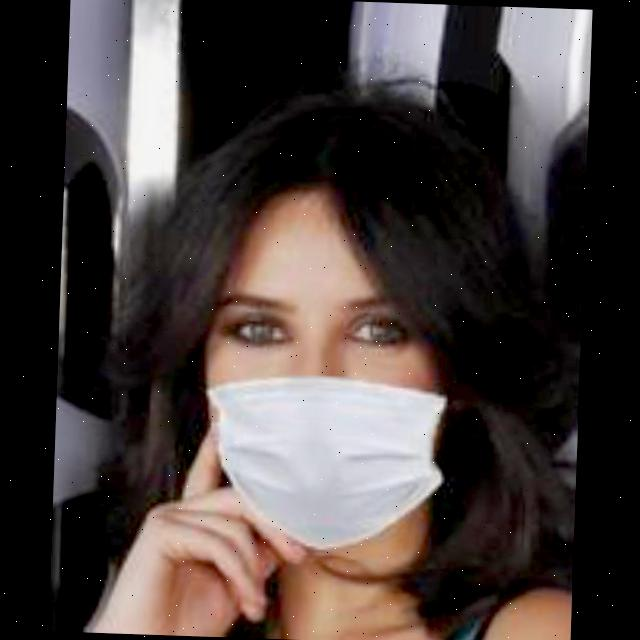suspicion: (140, 146, 510, 554)
